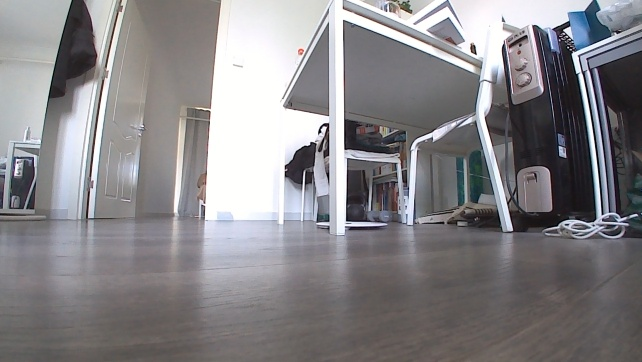dining_table: (275, 0, 520, 237)
door_anno: (76, 0, 156, 223)
weight_scale: (314, 216, 389, 231)
wire: (500, 107, 538, 219), (541, 210, 641, 241)
